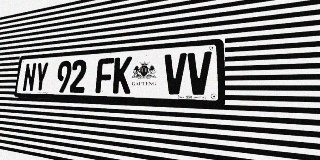2: (70, 59, 87, 93)
9: (56, 60, 72, 93)
F: (95, 58, 114, 93)
K: (112, 56, 132, 94)
N: (22, 63, 37, 92)
V: (187, 51, 212, 95), (163, 53, 187, 95)
Y: (34, 62, 49, 92)
